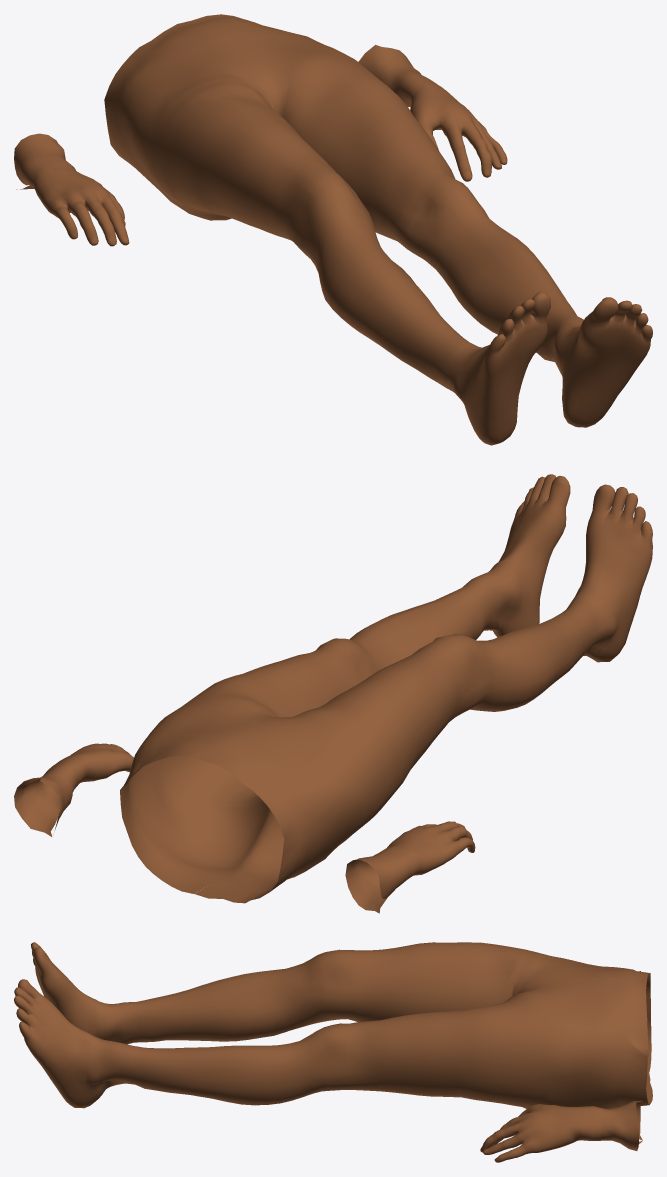
The model's file is pies.fbx.
3 renders of one model, top to bottom at view 1: azimuth 30°, elevation 25°; view 2: azimuth 150°, elevation 25°; view 3: azimuth 270°, elevation 25°, orthographic. The views are drawn at different scales.
Visible parts, largest first — view 1: Body_Patient_0; view 2: Body_Patient_0; view 3: Body_Patient_0.
Part boxes in pixels (box(x1,y1,x2,y2)): Body_Patient_0: box(14, 14, 652, 445); Body_Patient_0: box(14, 474, 652, 913); Body_Patient_0: box(14, 942, 652, 1162).
Bounding box in the file's own units: 6907 × 2681 × 11368.
